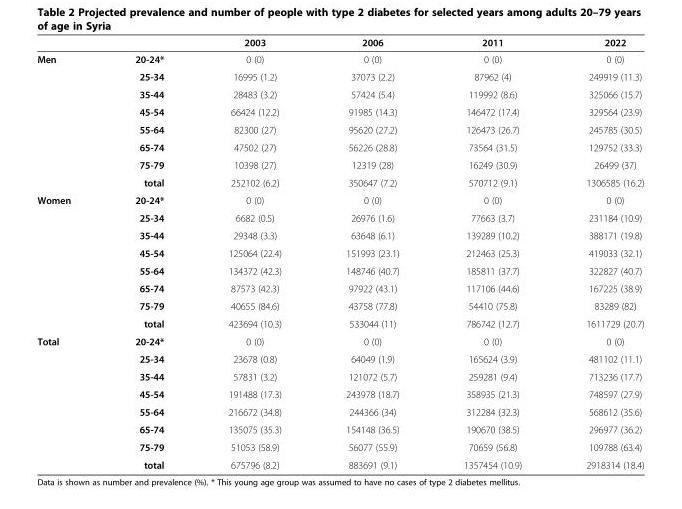table: (36, 36, 643, 470)
table column: (430, 36, 553, 470), (195, 36, 313, 470), (313, 36, 430, 470), (102, 36, 195, 470), (553, 36, 643, 470), (36, 36, 102, 470)
table column header: (36, 36, 643, 50)
table row: (36, 67, 643, 85), (36, 102, 643, 120), (36, 120, 643, 138), (36, 155, 643, 173), (36, 173, 643, 191), (36, 208, 643, 226), (36, 243, 643, 261), (36, 261, 643, 279), (36, 296, 643, 314), (36, 314, 643, 332), (36, 349, 643, 367), (36, 367, 643, 385), (36, 402, 643, 420), (36, 437, 643, 455), (36, 50, 643, 67), (36, 85, 643, 102), (36, 138, 643, 155), (36, 191, 643, 208), (36, 226, 643, 243), (36, 279, 643, 296), (36, 332, 643, 349), (36, 385, 643, 402), (36, 420, 643, 437), (36, 455, 643, 470), (36, 36, 643, 50)
table spanning cell: (36, 50, 102, 191), (36, 191, 102, 332), (36, 332, 102, 470)
